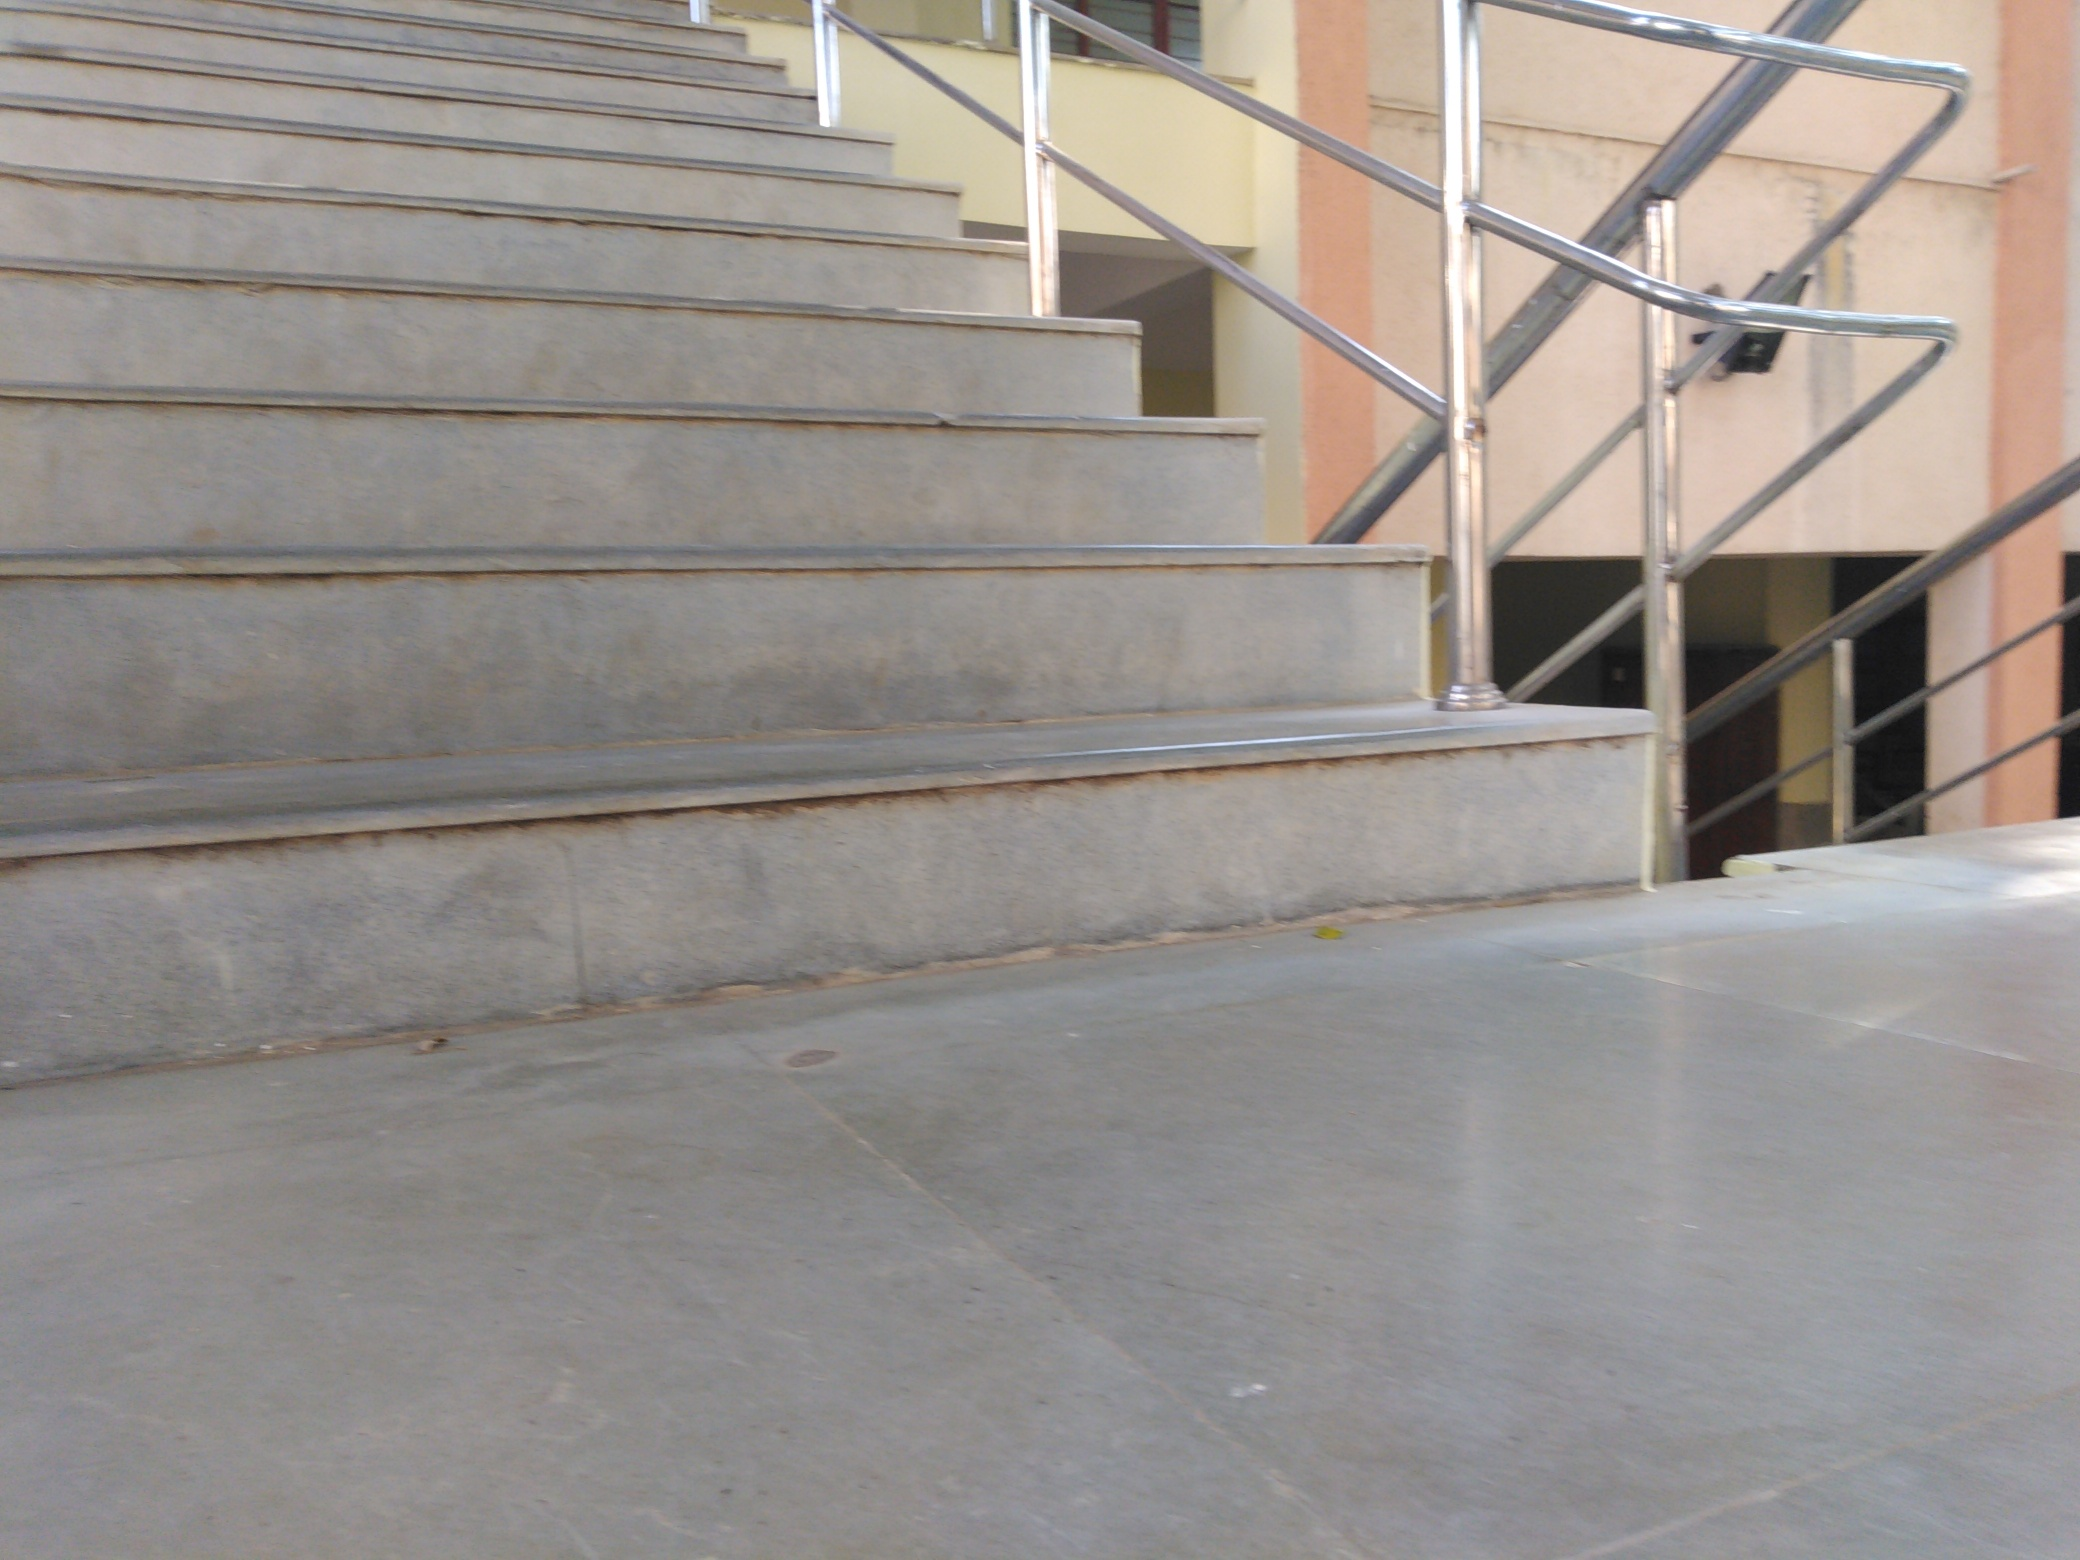stairs_up: (11, 21, 1626, 970)
